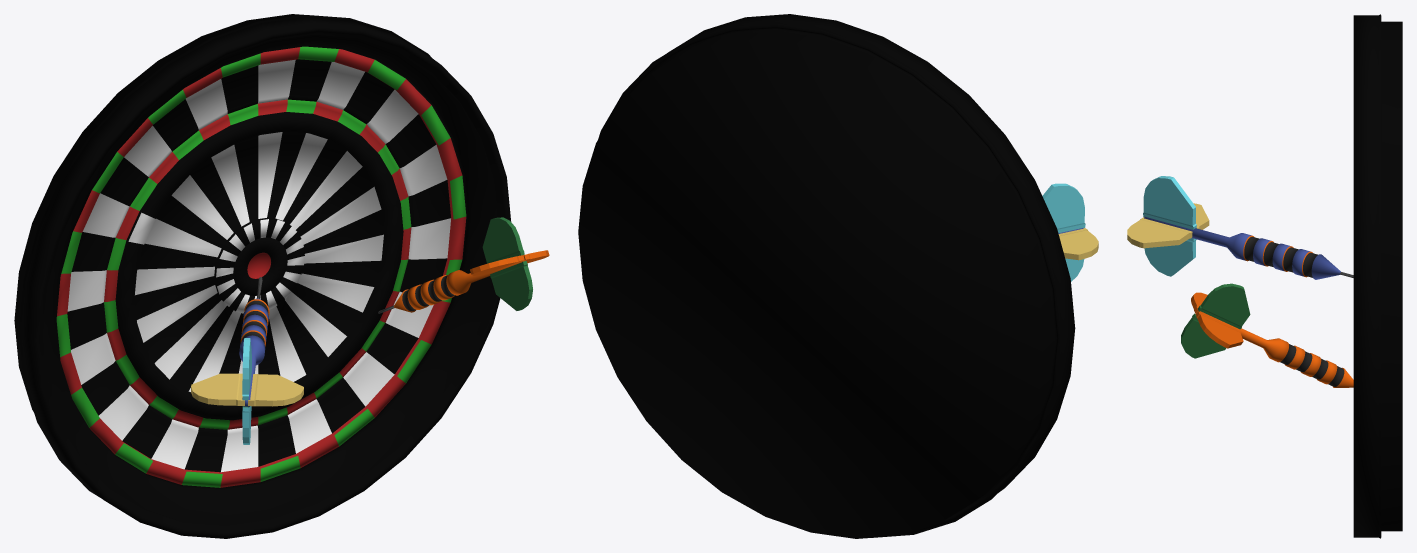
File: dartboard_stattic.glb
3 renders of one model, left to right at view 1: azimuth 30°, elevation 25°; view 2: azimuth 150°, elevation 25°; view 3: azimuth 270°, elevation 25°, orthographic. The views are drawn at different scales.
Parts seen in each view (by area): view 1: Cylinder, Cylinder.001, Cylinder.002; view 2: Cylinder, Cylinder.002; view 3: Cylinder, Cylinder.002, Cylinder.001.
Part boxes in pixels (<box>): Cylinder: <box>14,14,511,538</box>; Cylinder.001: <box>378,217,549,313</box>; Cylinder.002: <box>191,277,303,444</box>; Cylinder: <box>578,14,1075,538</box>; Cylinder.002: <box>1042,183,1098,281</box>; Cylinder: <box>1353,14,1402,538</box>; Cylinder.002: <box>1127,176,1353,279</box>; Cylinder.001: <box>1181,283,1353,387</box>.
Size of the model in its own units: 1.65 by 1.65 by 0.8673.
